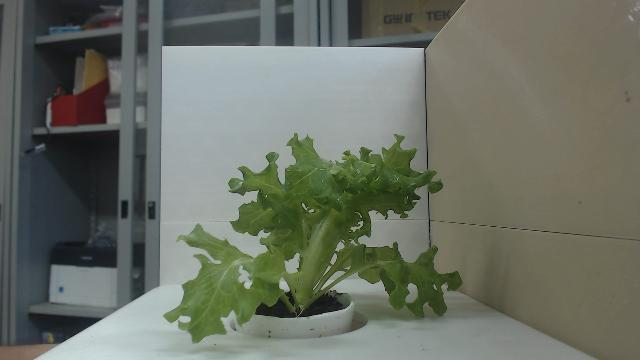Harvest Stage: (162, 131, 464, 345)
